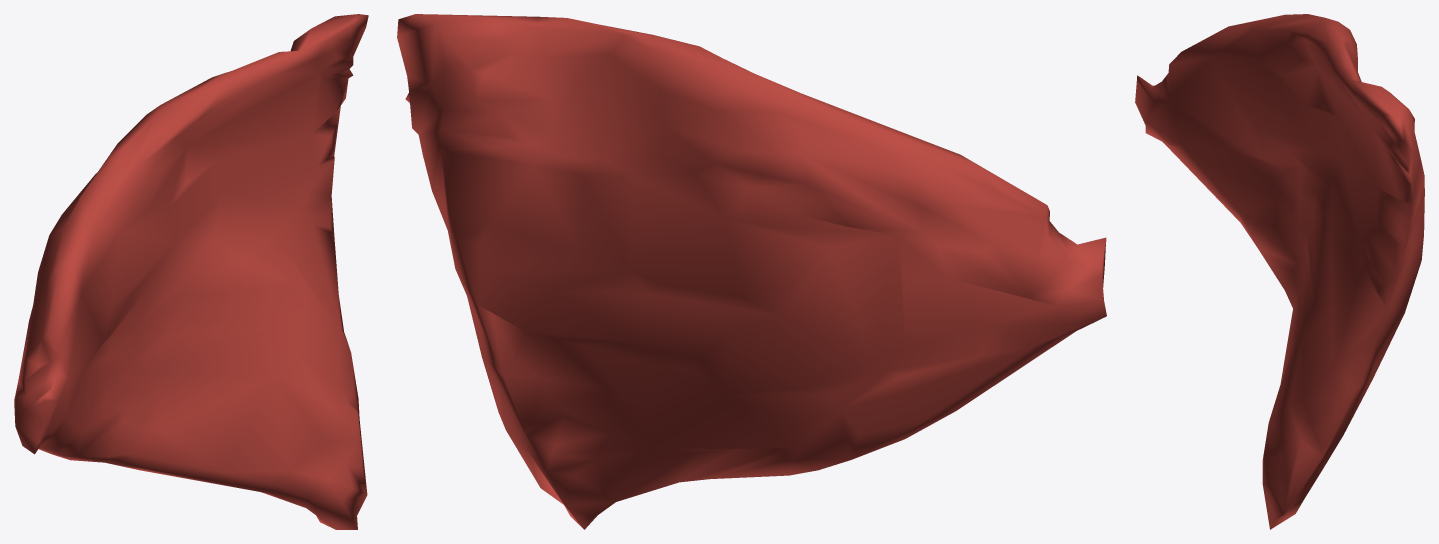
File: musculos-transverse-head-of-adductor-pollicis-r.glb
The picture shows the model from 3 angles, left to right: view 1: azimuth 30°, elevation 25°; view 2: azimuth 150°, elevation 25°; view 3: azimuth 270°, elevation 25°; orthographic projection. The views are drawn at different scales.
Visible parts, largest first — view 1: Transverse head of adductor pollicis.r; view 2: Transverse head of adductor pollicis.r; view 3: Transverse head of adductor pollicis.r.
Boxes of the visible parts, box(x1,y1,x2,y2) form: Transverse head of adductor pollicis.r: box(14, 14, 368, 529); Transverse head of adductor pollicis.r: box(397, 14, 1106, 529); Transverse head of adductor pollicis.r: box(1135, 14, 1424, 529).
Bounding box in the file's own units: 0.0427 × 0.0394 × 0.0231.
